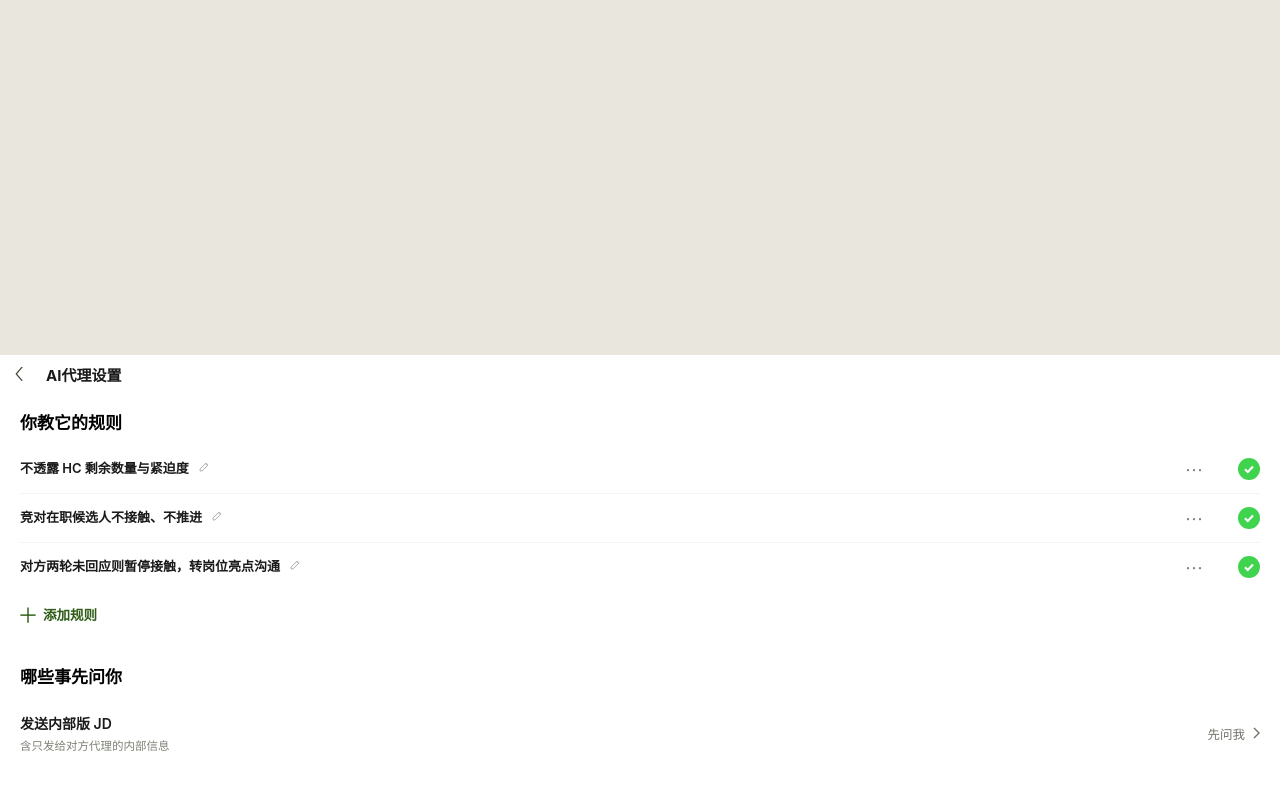
Test: 企业代理设置 · Mock 原型分支 › 空规则时提交键不可用
(page scrolled)
Click the button "＋ 添加规则": {"x": 70, "y": 614} [20,590,1260,636]
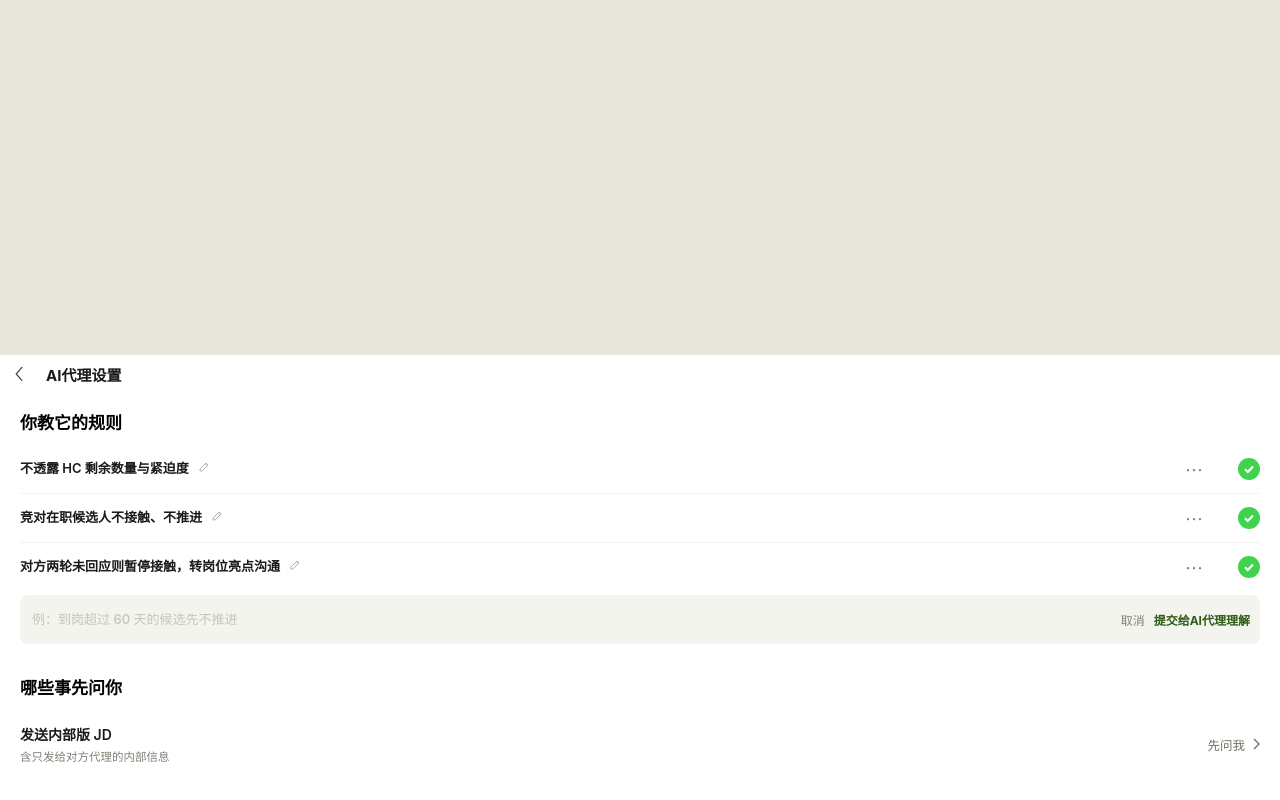
expect the button "提交给AI代理理解" is disabled: met, box [1154,602,1250,636]
